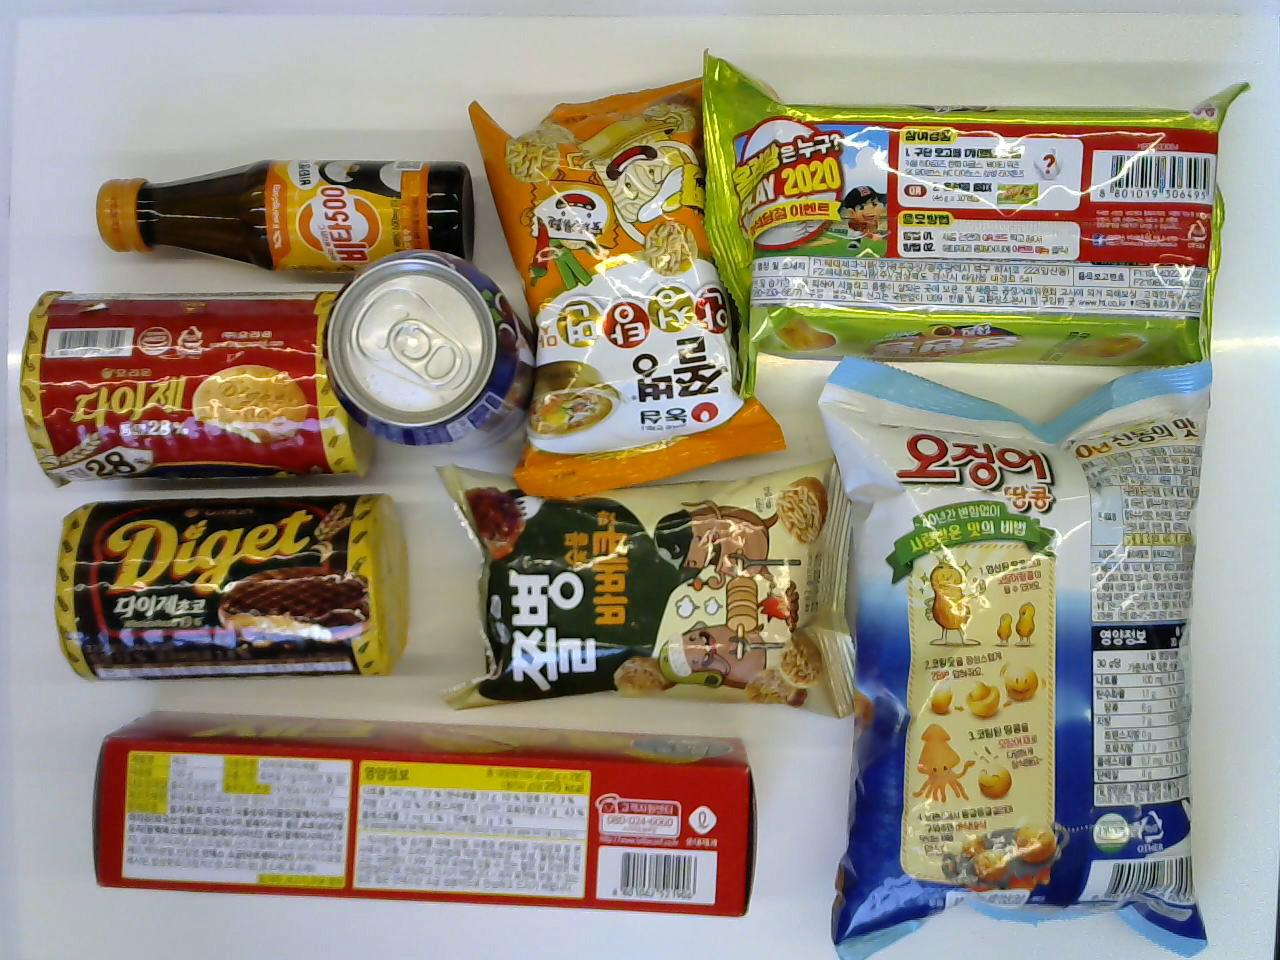diget_choco: (49, 490, 408, 685)
diget_ori: (15, 277, 377, 491)
homerunball: (692, 46, 1247, 395)
jjolbyung_noodle: (464, 67, 788, 489)
jjolbyung_ori: (430, 439, 857, 717)
squid_peanut: (814, 345, 1226, 955)
vita500: (94, 149, 477, 281)
welchs: (324, 249, 538, 457)
zec: (91, 709, 755, 916)
